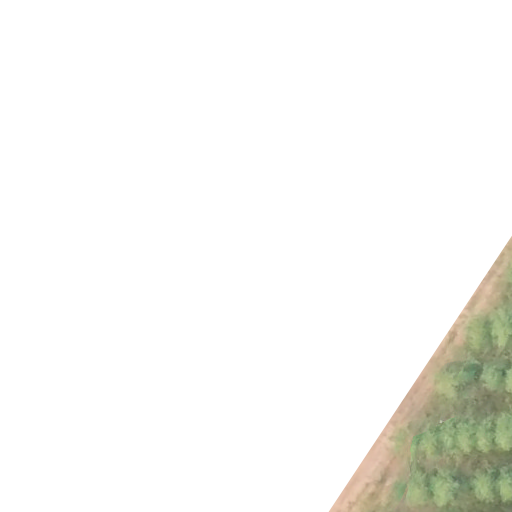eucalipto: (469, 460, 504, 507)
